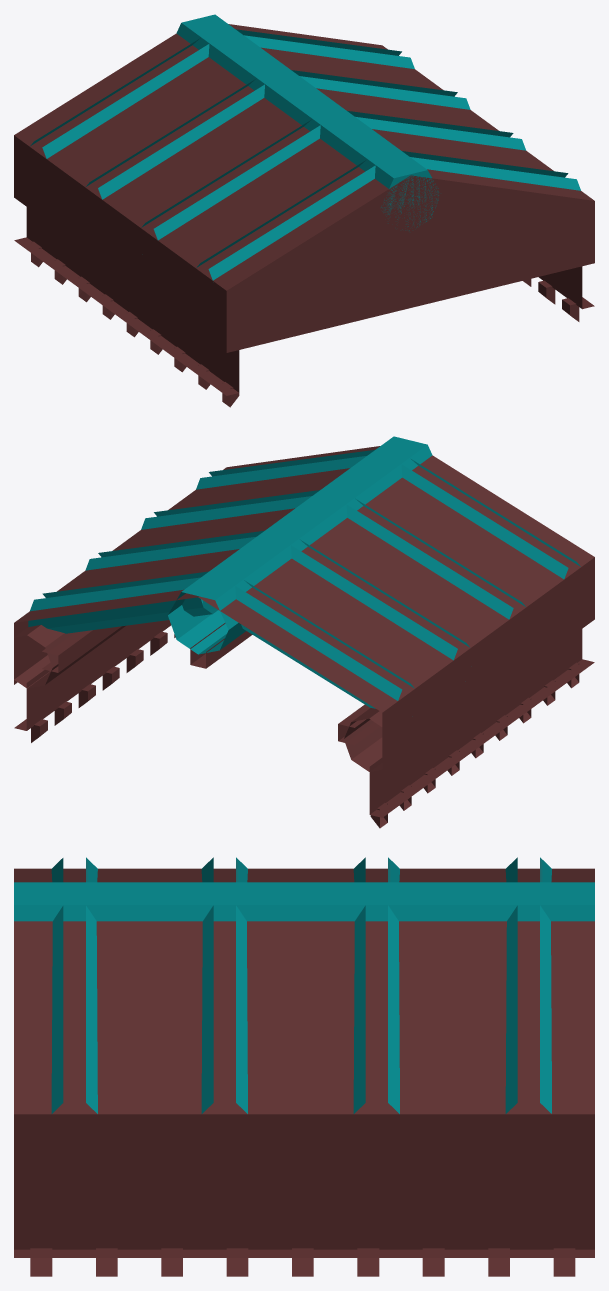
File: corridorceiling_001.fbx
3 renders of one model, top to bottom at view 1: azimuth 30°, elevation 25°; view 2: azimuth 150°, elevation 25°; view 3: azimuth 270°, elevation 25°, orthographic. The views are drawn at different scales.
Visible parts, largest first — view 1: corridorceiling_001; view 2: corridorceiling_001; view 3: corridorceiling_001.
Part boxes in pixels (x1=…): corridorceiling_001: x1=14, y1=14, x2=594, y2=407; corridorceiling_001: x1=14, y1=436, x2=594, y2=828; corridorceiling_001: x1=14, y1=857, x2=594, y2=1276.
Size of the model in its own units: 400 by 203 by 400.
